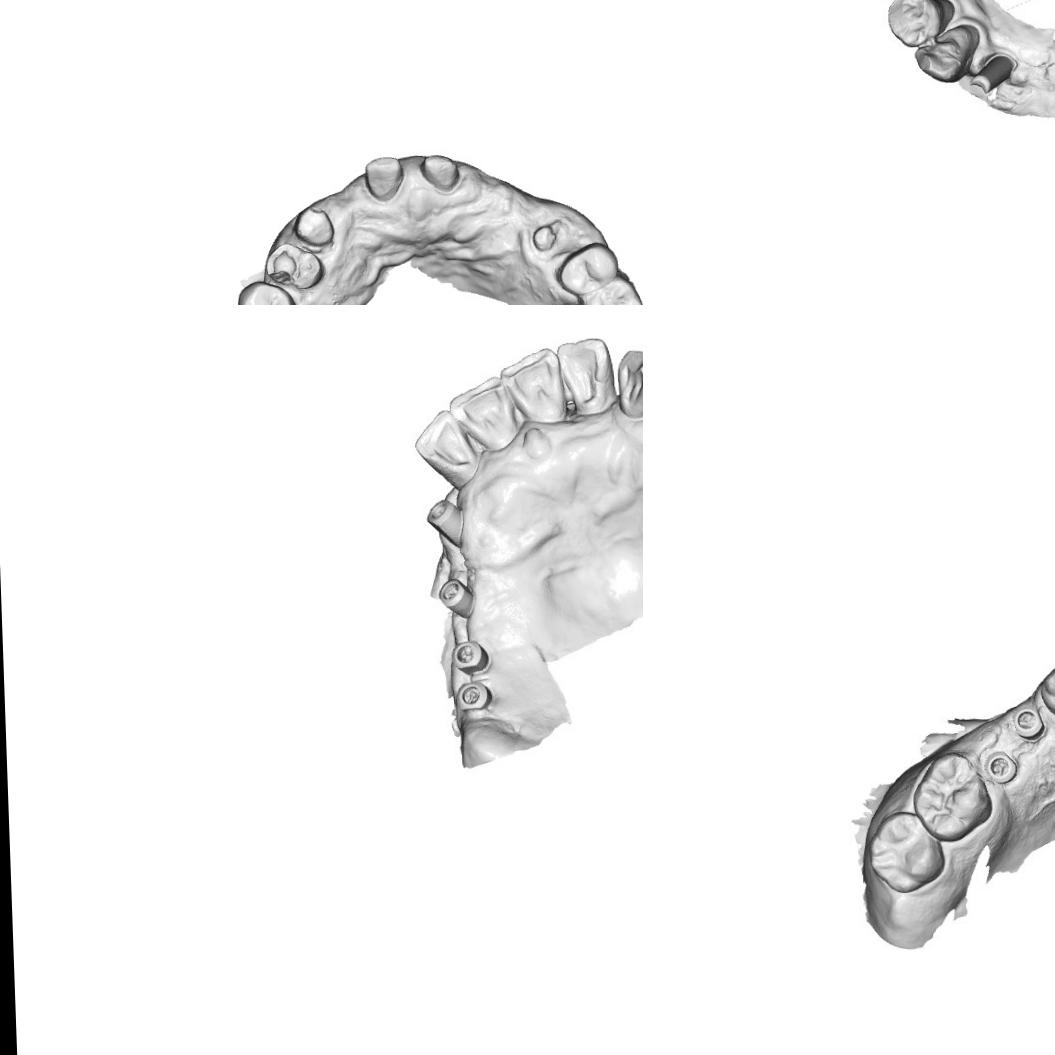abutment: (966, 49, 1022, 98)
canine: (913, 25, 978, 84), (613, 344, 643, 419), (1040, 662, 1055, 727)
crown: (353, 141, 410, 211), (288, 201, 344, 260), (411, 142, 471, 196)
implant: (426, 498, 465, 538), (982, 747, 1016, 786), (440, 579, 473, 618), (1012, 704, 1048, 738), (452, 639, 488, 672), (456, 680, 493, 712)
incisor: (504, 350, 571, 424), (450, 380, 520, 448), (416, 411, 472, 481), (560, 338, 610, 412)
molar: (866, 814, 943, 898), (914, 756, 991, 831)
premolar: (557, 240, 620, 298), (262, 241, 328, 294), (888, 0, 943, 46), (228, 277, 298, 305), (582, 273, 643, 305)
